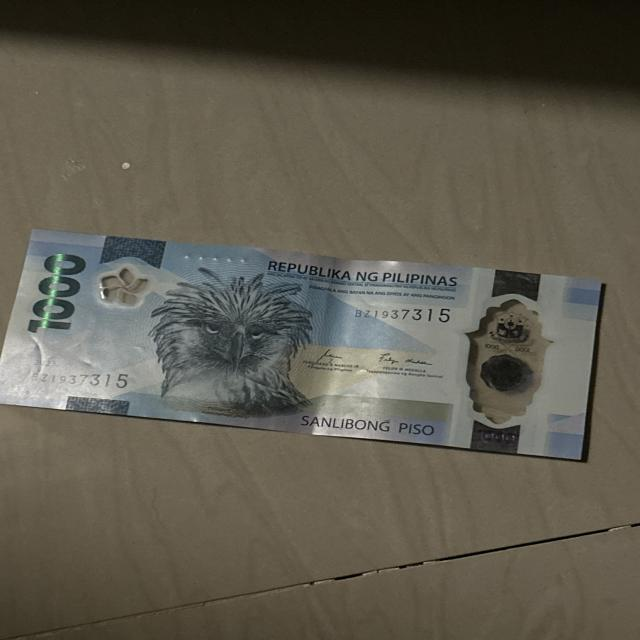clear_window: (459, 292, 544, 438)
eagle: (148, 263, 311, 426)
sampaguita: (89, 259, 159, 307)
serial_number: (21, 370, 140, 393)
